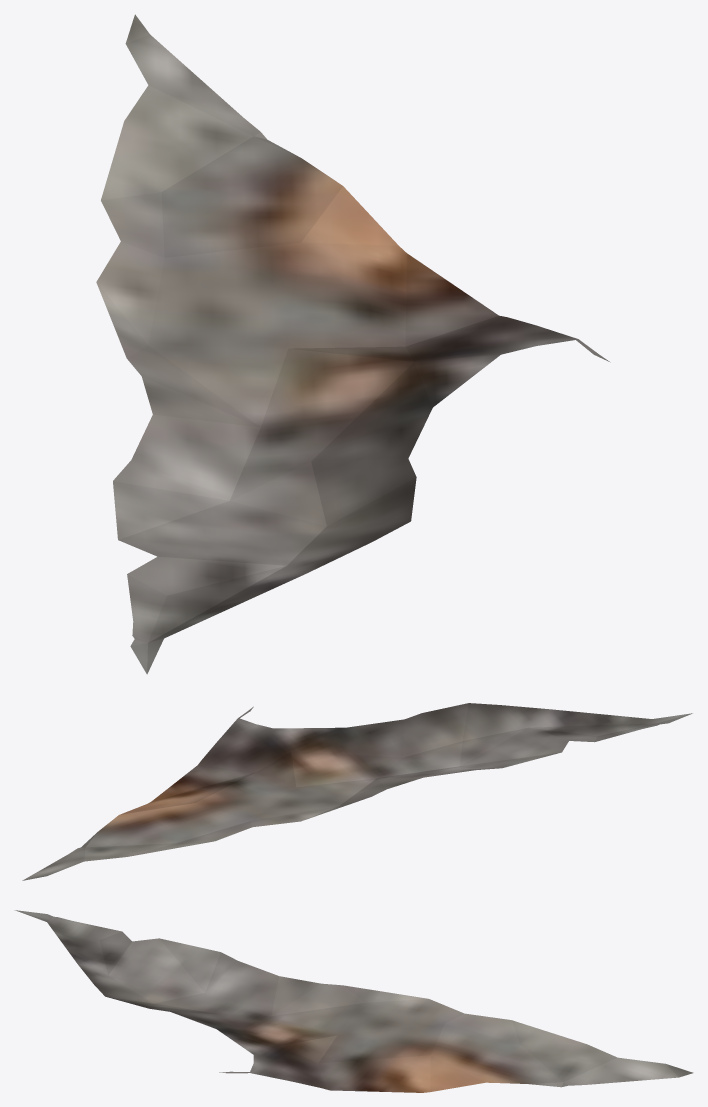
The picture shows the model from 3 angles, top to bottom: view 1: azimuth 30°, elevation 25°; view 2: azimuth 150°, elevation 25°; view 3: azimuth 270°, elevation 25°; orthographic projection. The views are drawn at different scales.
Size of the model in its own units: 0.2015 by 0.0115 by 0.3554.
Materials: 1 (1 with a texture image).
